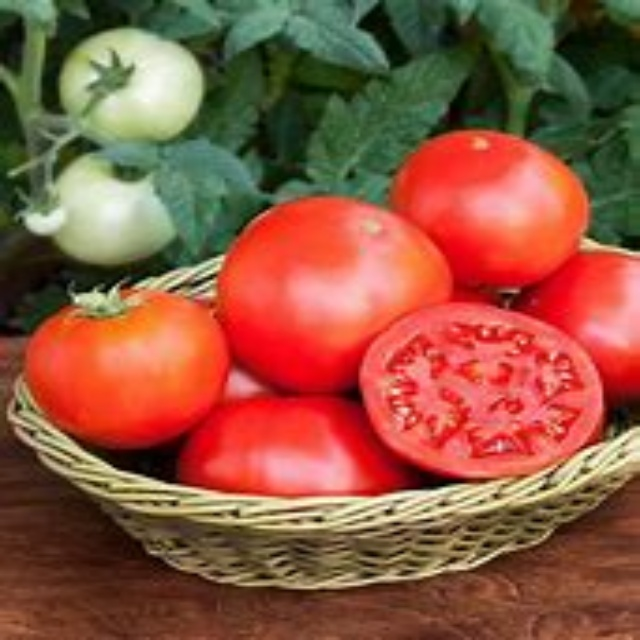tomato: (352, 303, 604, 478), (224, 193, 439, 386), (31, 266, 222, 447), (387, 128, 583, 289), (189, 410, 408, 522), (517, 242, 639, 392), (38, 154, 198, 259), (58, 36, 205, 144)
